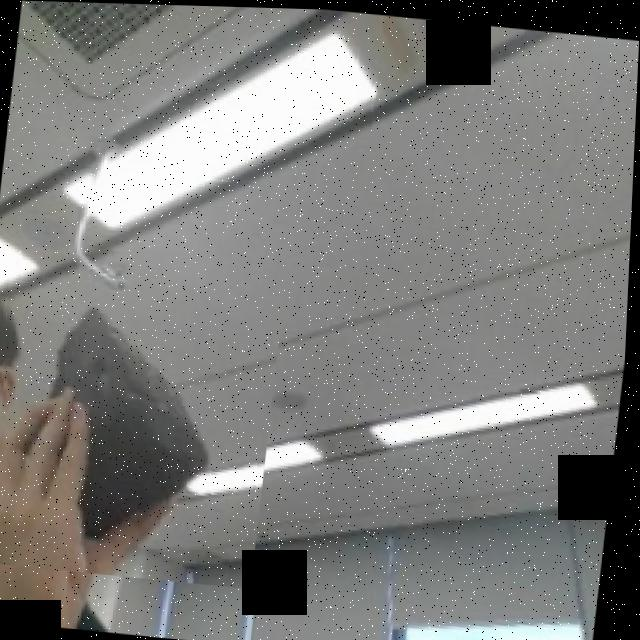shoe: (0, 234, 290, 587)
